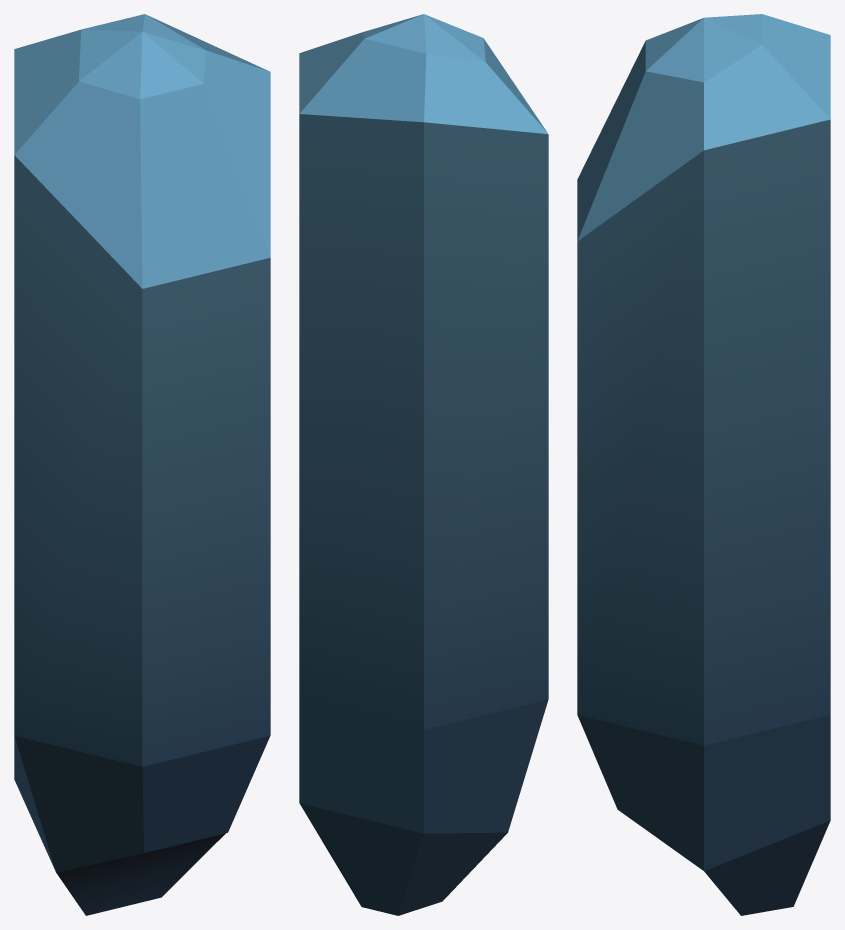
File: geology-crystals-icecrystal_v3.fbx
3 renders of one model, left to right at view 1: azimuth 30°, elevation 25°; view 2: azimuth 150°, elevation 25°; view 3: azimuth 270°, elevation 25°, orthographic. The views are drawn at different scales.
Visible parts, largest first — view 1: IceCrystal_v3; view 2: IceCrystal_v3; view 3: IceCrystal_v3.
Boxes of the visible parts, x1=… form: IceCrystal_v3: x1=14, y1=14, x2=270, y2=915; IceCrystal_v3: x1=299, y1=14, x2=548, y2=915; IceCrystal_v3: x1=577, y1=14, x2=830, y2=915.
Bounding box in the file's own units: 2.01 × 6.67 × 1.74.
